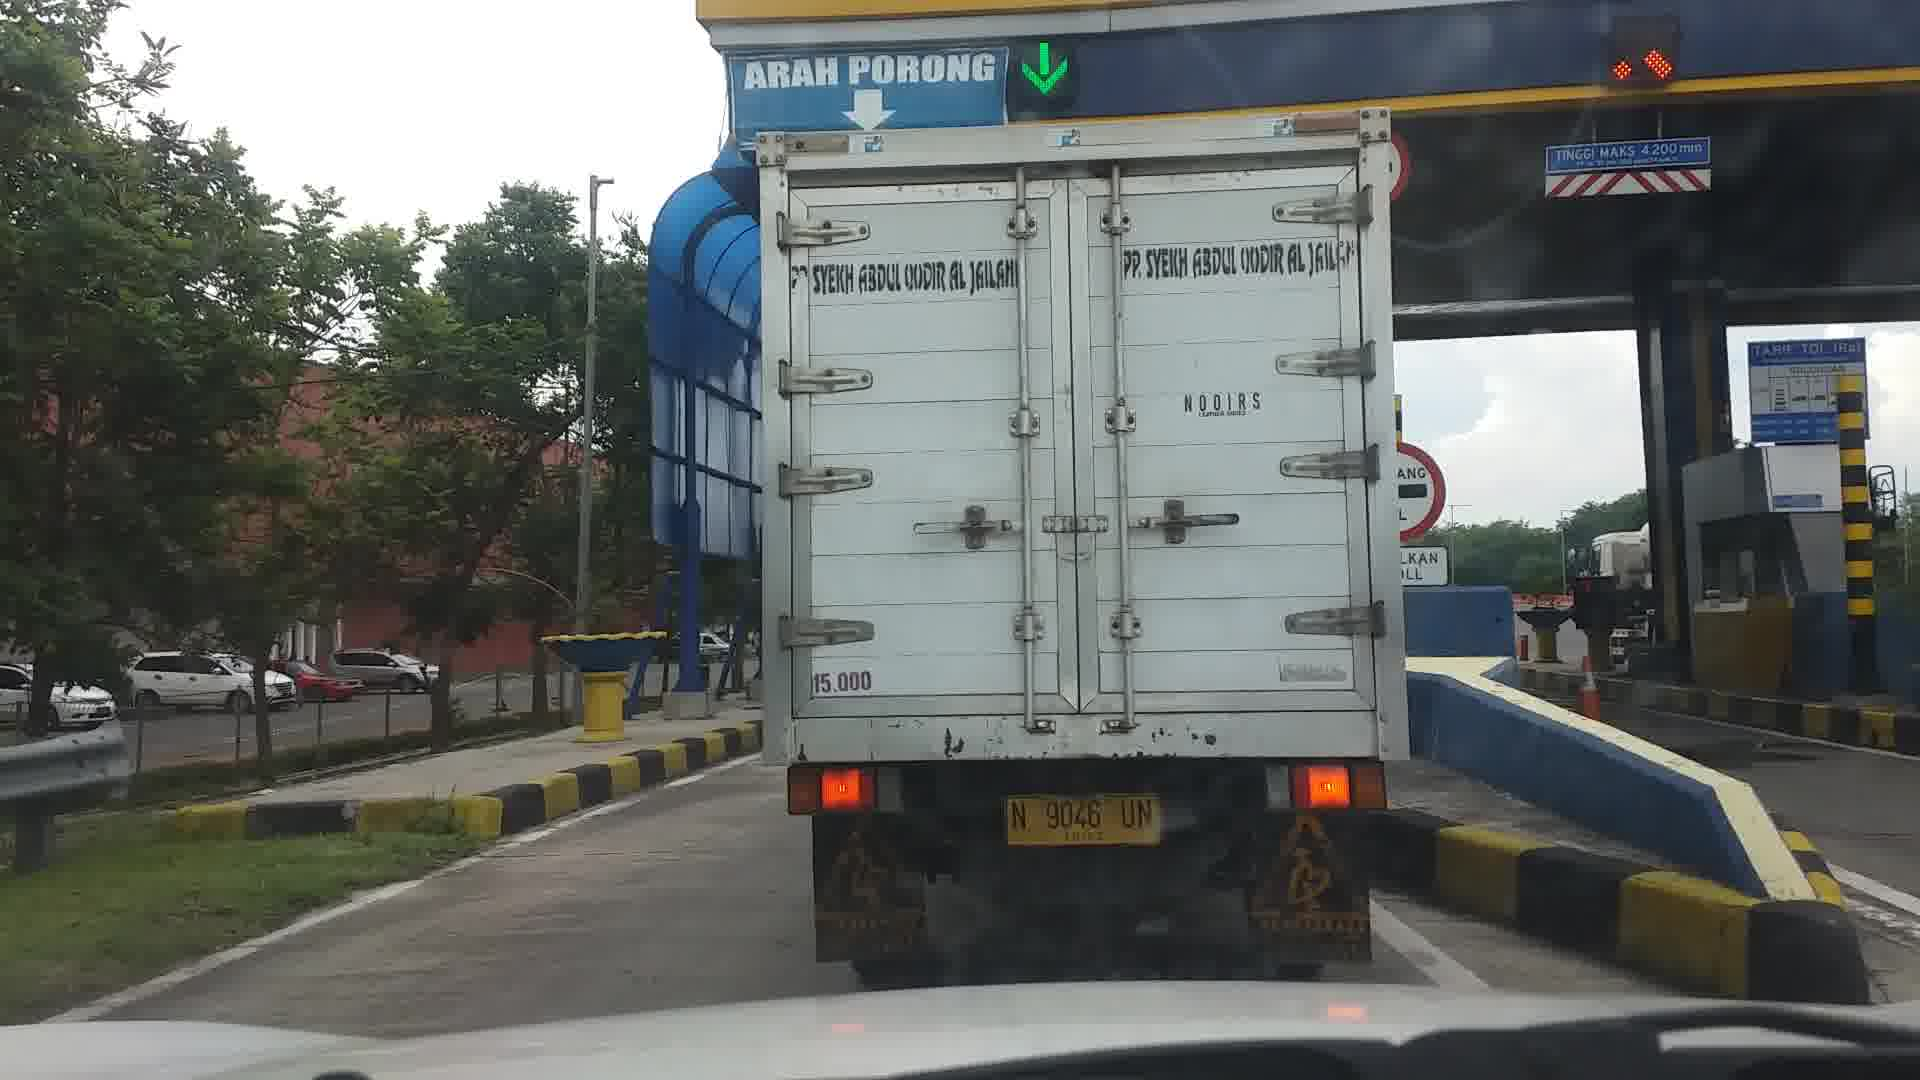plate_positive: (1001, 793, 1160, 844)
